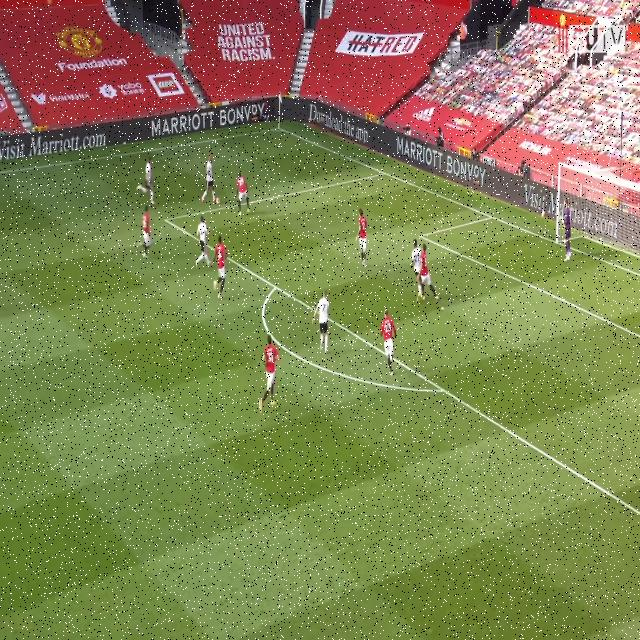Ball: (216, 193, 221, 210)
GoalKeeper: (561, 202, 576, 262)
TEAM 1: (262, 341, 280, 410), (420, 242, 440, 304), (380, 310, 396, 375), (215, 238, 231, 302), (141, 206, 154, 258), (358, 209, 369, 267), (236, 174, 250, 215)
TEAM 2: (312, 293, 329, 353), (197, 218, 213, 264), (202, 154, 216, 205), (141, 158, 154, 203), (411, 236, 419, 273)
